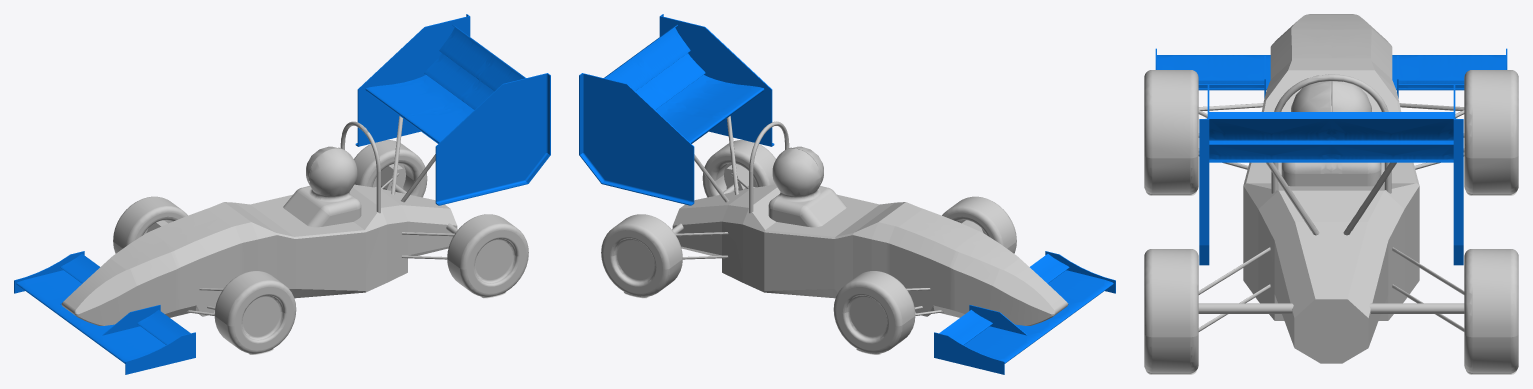
File: FSAE-Car.glb
3 views of the same model, side by side, from view 1: azimuth 30°, elevation 25°; view 2: azimuth 150°, elevation 25°; view 3: azimuth 270°, elevation 25° (orthographic). The views are drawn at different scales.
Parts seen in each view (by area): view 1: empty_8, empty_10, empty_2, empty_3, empty_5, empty_4, empty_6; view 2: empty_8, empty_10, empty_2, empty_6, empty_4, empty_5, empty_3; view 3: empty_8, empty_10, empty_4, empty_5, empty_3, empty_6, empty_2.
Part boxes in pixels (x1,y1,x2,y2): empty_8: (61, 116, 457, 325); empty_10: (355, 14, 550, 205); empty_2: (14, 251, 195, 374); empty_3: (214, 271, 296, 354); empty_5: (447, 214, 528, 298); empty_4: (354, 140, 427, 197); empty_6: (113, 196, 187, 253); empty_8: (672, 116, 1068, 325); empty_10: (579, 14, 774, 205); empty_2: (934, 251, 1115, 374); empty_6: (833, 271, 915, 354); empty_4: (601, 214, 682, 298); empty_5: (702, 140, 775, 197); empty_3: (942, 196, 1016, 253); empty_8: (1198, 14, 1464, 363); empty_10: (1199, 85, 1463, 265); empty_4: (1464, 249, 1518, 374); empty_5: (1144, 249, 1198, 374); empty_3: (1144, 70, 1198, 195); empty_6: (1464, 70, 1518, 195); empty_2: (1155, 48, 1507, 98).
Bounding box in the file's own units: 2947 × 1222 × 1376.
